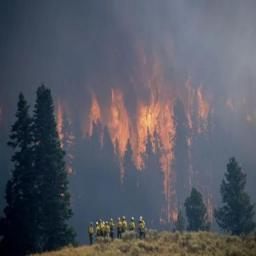Heavy smoke: (2, 0, 256, 107)
Large fire: (59, 75, 227, 211)
